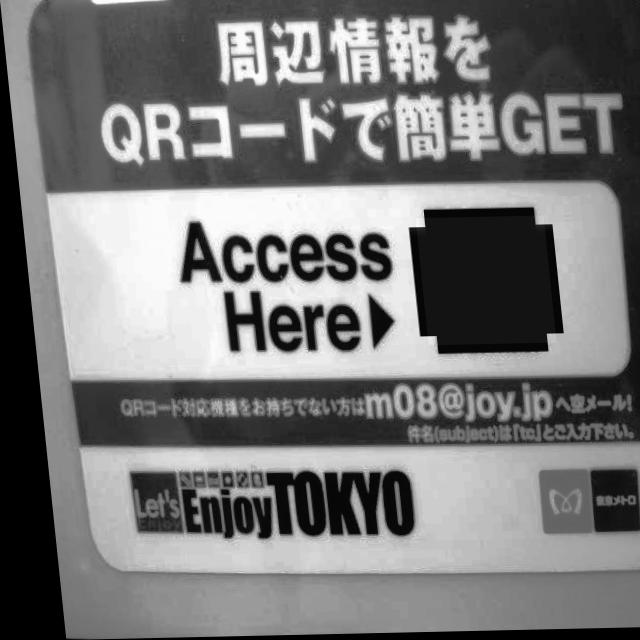qr_code: (411, 218, 549, 347)
